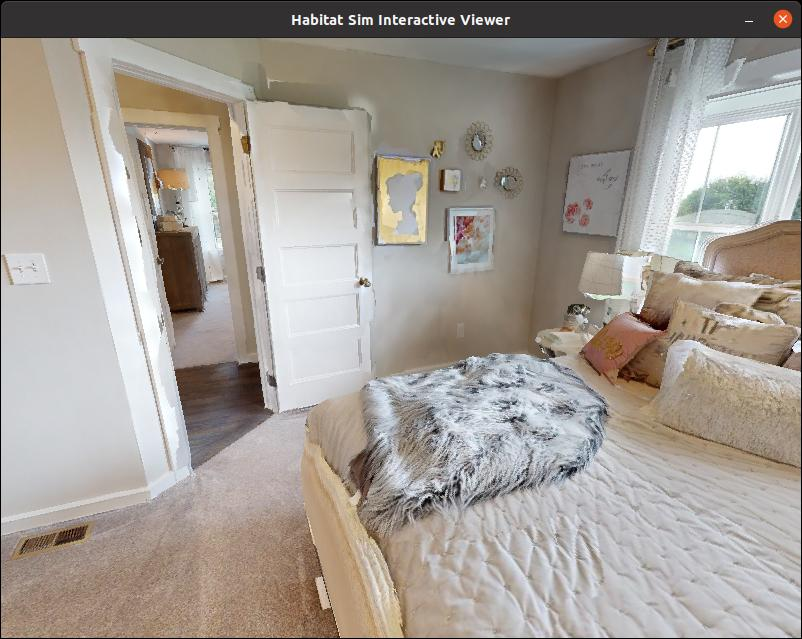bed: (273, 209, 802, 639)
door: (221, 87, 385, 412)
door-frame: (74, 37, 263, 495)
